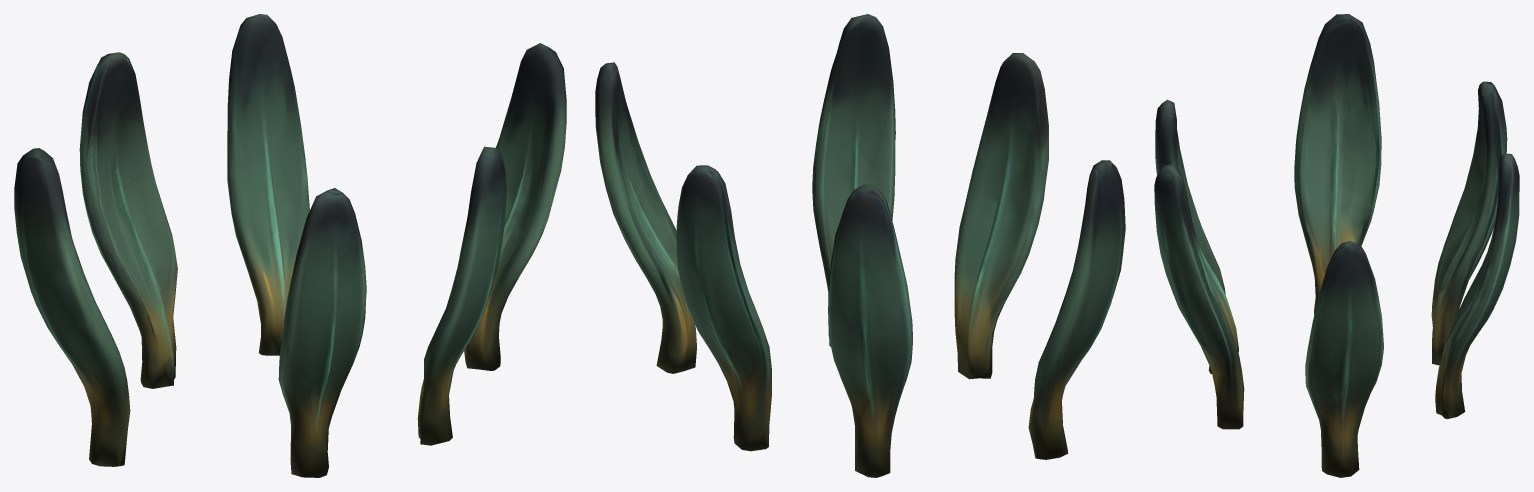
The picture shows the model from 3 angles, left to right: view 1: azimuth 30°, elevation 25°; view 2: azimuth 150°, elevation 25°; view 3: azimuth 270°, elevation 25°; orthographic projection. The views are drawn at different scales.
Parts seen in each view (by area): view 1: Mesh_0; view 2: Mesh_0; view 3: Mesh_0.
Part boxes in pixels (x1,y1,x2,y2): Mesh_0: [14, 14, 566, 477]; Mesh_0: [595, 14, 1125, 477]; Mesh_0: [1154, 14, 1519, 477].
Size of the model in its own units: 1.91 by 1.08 by 1.31.
1 material, 1 textured.
